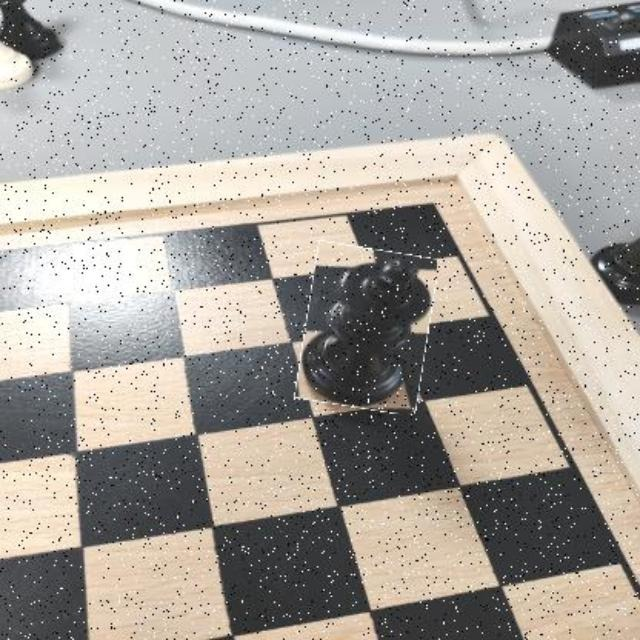black-king: (300, 245, 433, 411)
